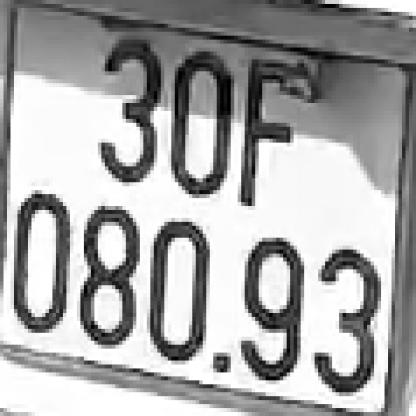0: (172, 52, 228, 198), (150, 214, 206, 357), (14, 194, 70, 329)
3: (98, 36, 164, 186), (314, 246, 378, 392)
8: (80, 206, 140, 341)
9: (241, 234, 297, 380)
F: (241, 59, 294, 206)
